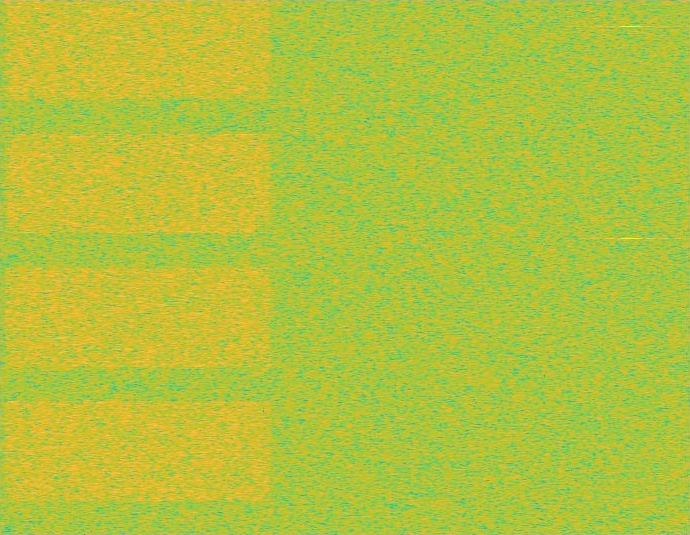5G: (0, 0, 276, 534)
Radar: (623, 0, 637, 534)
